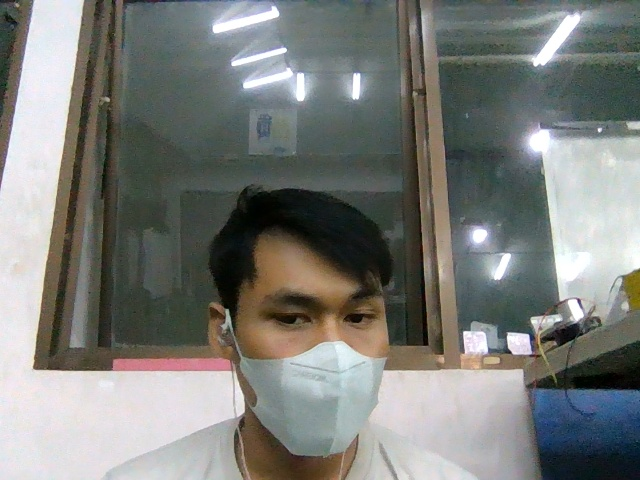mask_on: (239, 341, 387, 457)
